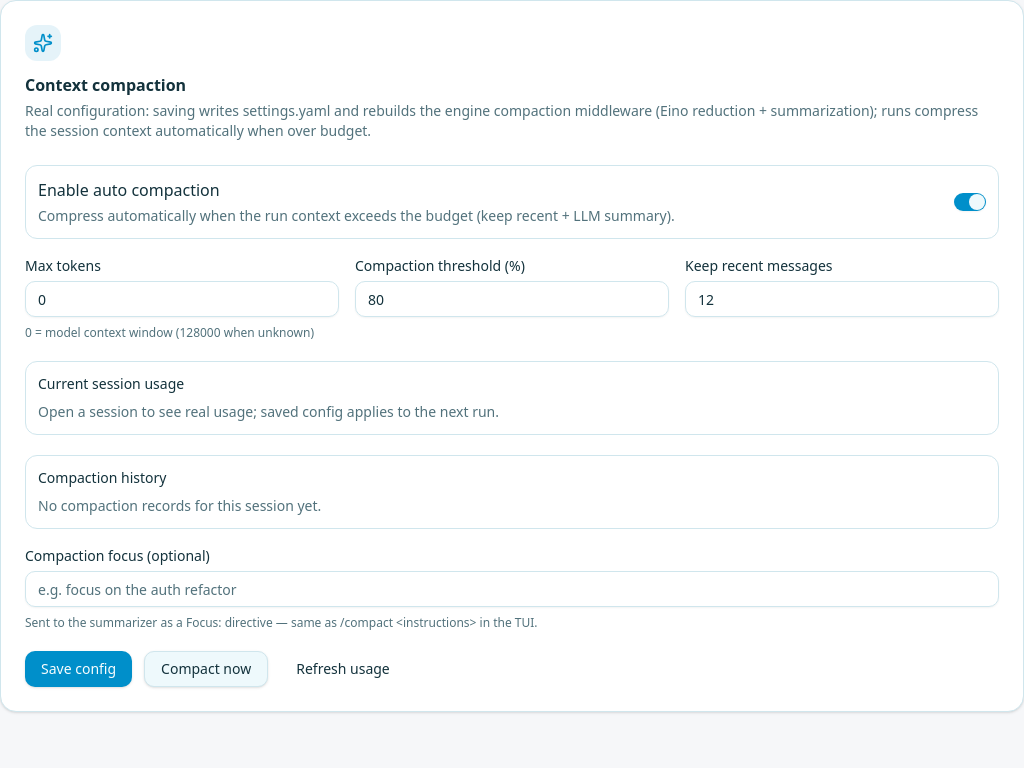
Scenario: CompactionSettingsCard mounted feedback › does not invent token savings for unmeasured Recap consolidation
Click the button "Compact now": x=206, y=669 left=144, top=651, right=268, bottom=687
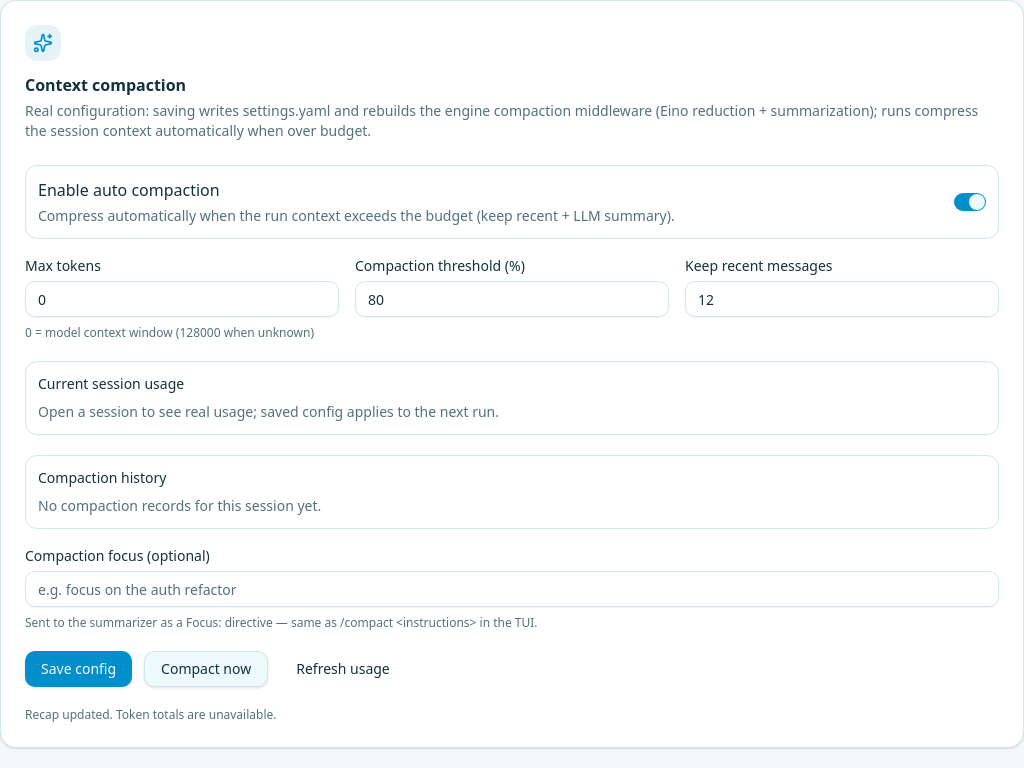
Result: the text "Recap updated. Token totals are unavailable." is shown at left=25, top=706, right=276, bottom=723
